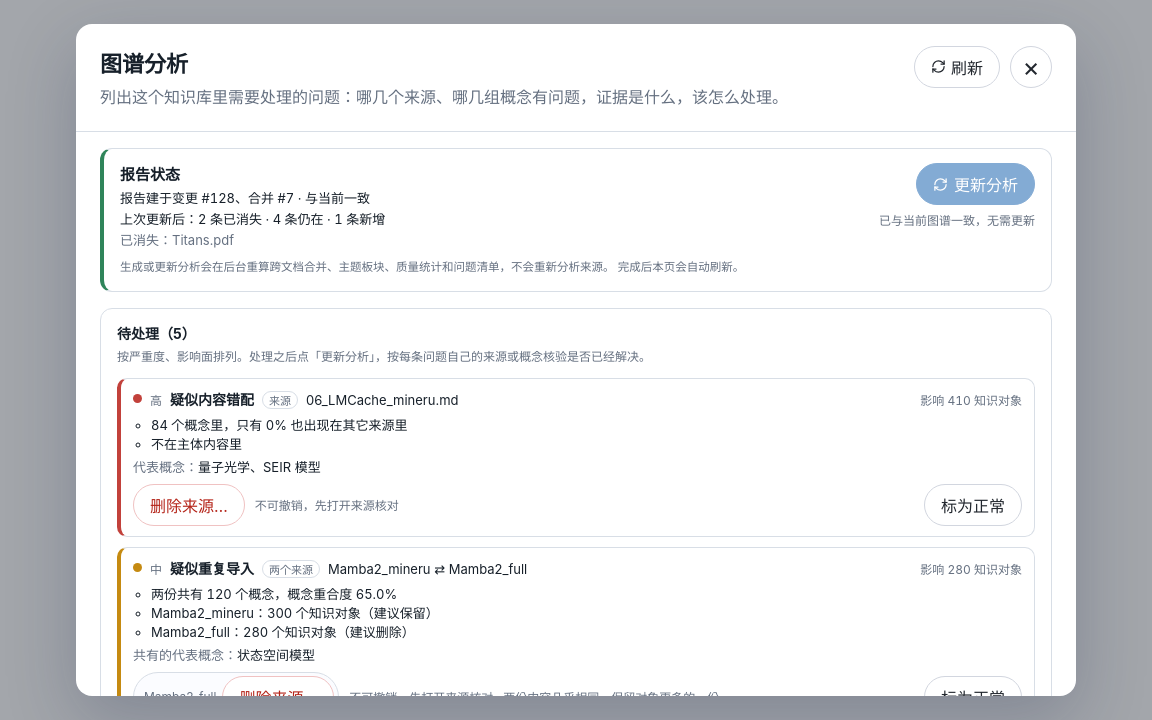
Test case: 面板里删掉一篇来源之后总览也重取：「更新分析」按新报告从「无需更新」变成可点
Expected: the button "更新分析" is disabled, [916,163,1035,205]
Click the button "删除来源…" below "疑似内容错配".
click(189, 504)  # box [133,484,245,526]
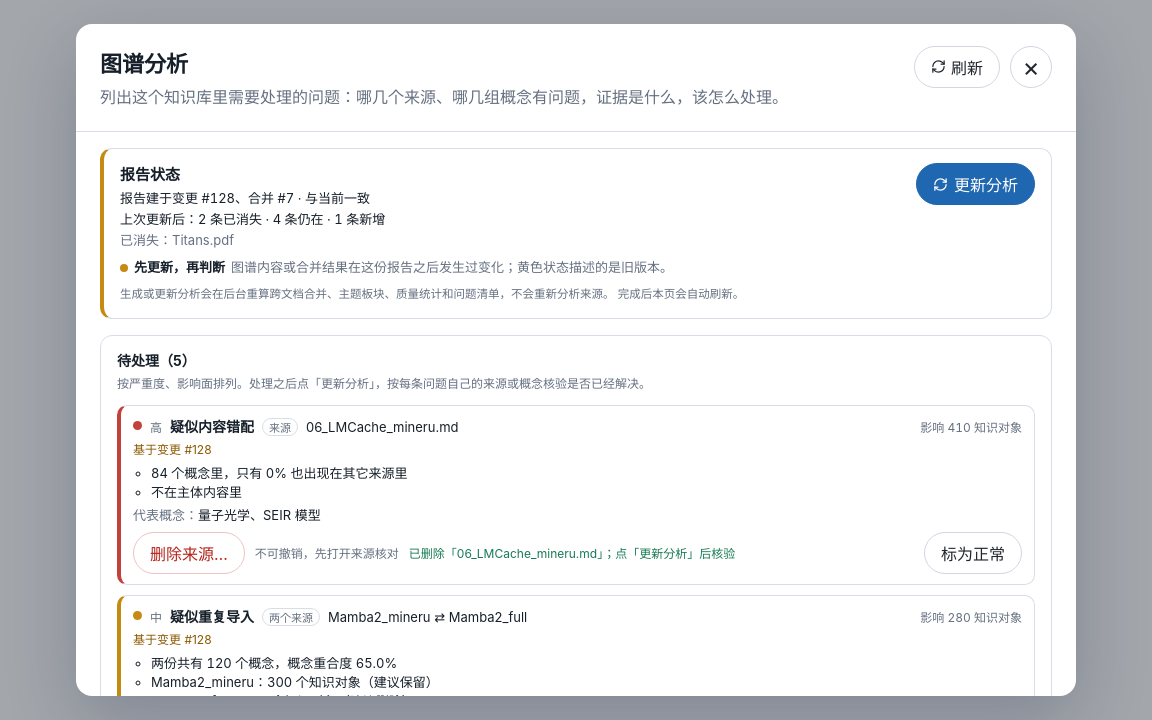
Now the button "更新分析" is enabled, box [916,163,1035,205]
Now the text "无需更新" is gone
Now the text "基于变更 #128" below "疑似重复导入" is shown, box [133,632,212,646]
